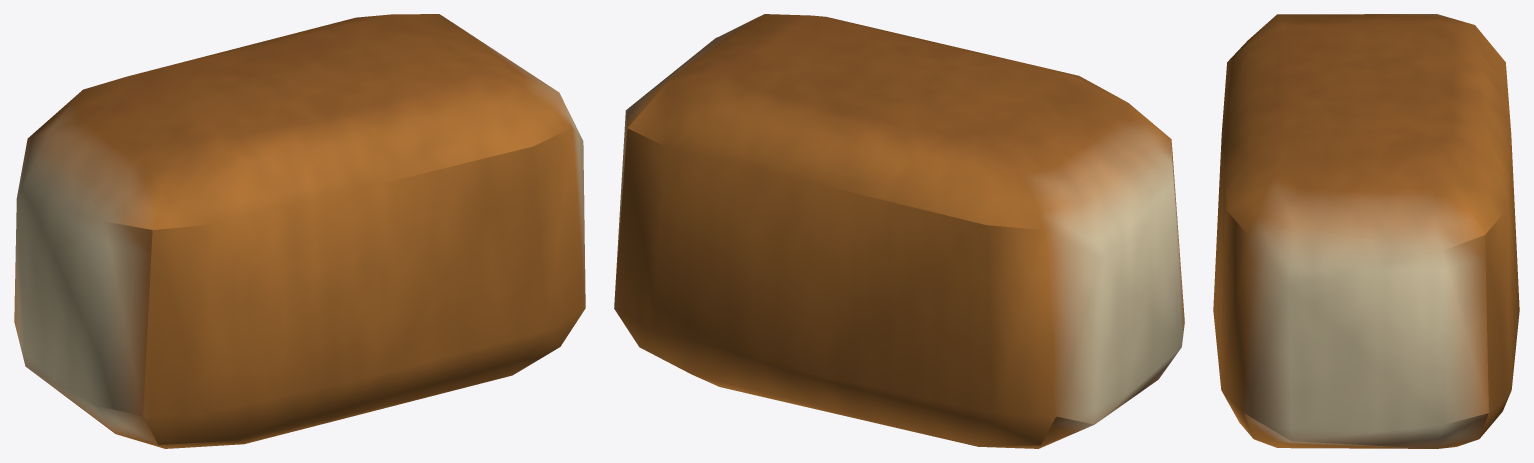
Rendered from Item_Bread.fbx.
The picture shows the model from 3 angles, left to right: view 1: azimuth 30°, elevation 25°; view 2: azimuth 150°, elevation 25°; view 3: azimuth 270°, elevation 25°; orthographic projection. The views are drawn at different scales.
Visible parts, largest first — view 1: Item_Bread; view 2: Item_Bread; view 3: Item_Bread.
Part boxes in pixels (<box>): Item_Bread: <box>14,14,585,448</box>; Item_Bread: <box>614,14,1184,448</box>; Item_Bread: <box>1213,14,1519,448</box>.
Size of the model in its own units: 0.2947 by 0.1797 by 0.1696.
1 material, 1 textured.
